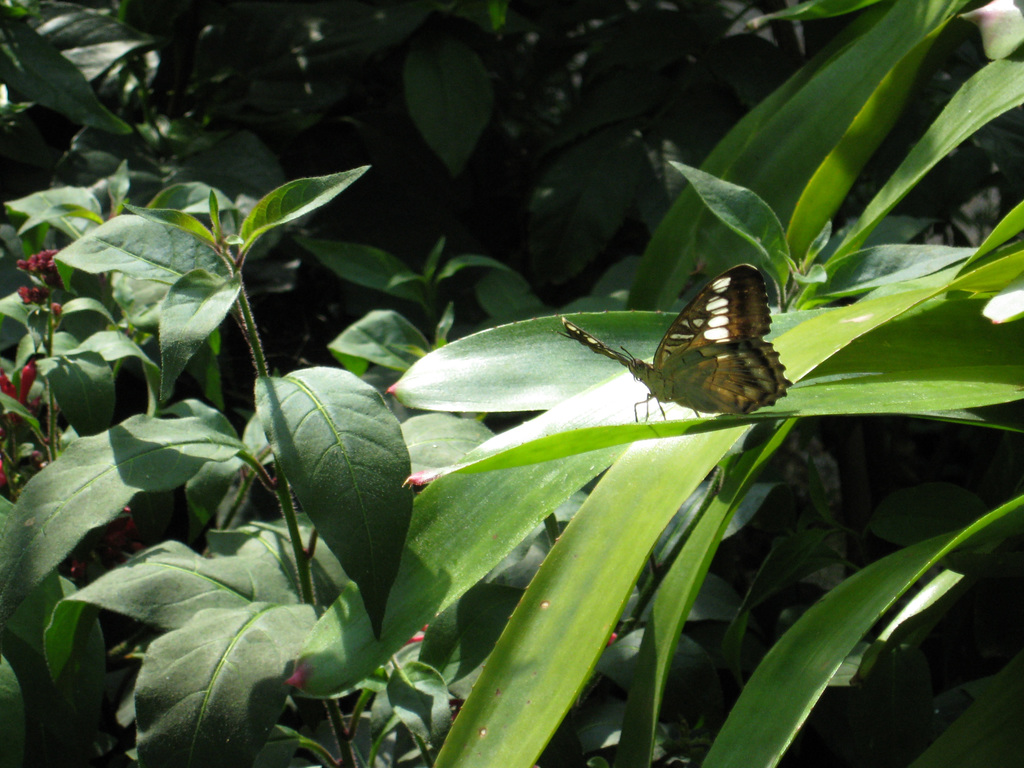Butterfly: (556, 257, 798, 431)
